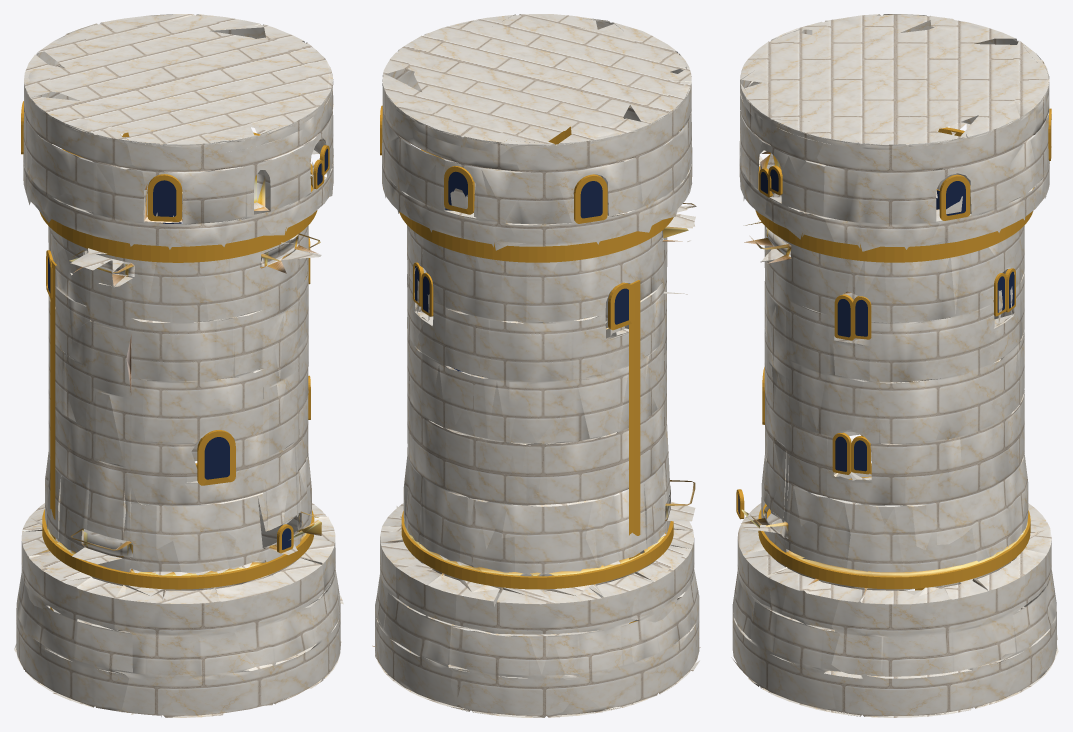
File: HaloPart_GateTowerR_trim.glb
3 views of the same model, side by side, from view 1: azimuth 30°, elevation 25°; view 2: azimuth 150°, elevation 25°; view 3: azimuth 270°, elevation 25° (orthographic).
Visible parts, largest first — view 1: HaloPart_GateTowerR_Stone, HaloPart_GateTowerR_Gold, HaloPart_GateTowerR_Trim, HaloPart_GateTowerR_Glass; view 2: HaloPart_GateTowerR_Stone, HaloPart_GateTowerR_Gold, HaloPart_GateTowerR_Glass, HaloPart_GateTowerR_Trim; view 3: HaloPart_GateTowerR_Stone, HaloPart_GateTowerR_Gold, HaloPart_GateTowerR_Glass, HaloPart_GateTowerR_Trim.
Part boxes in pixels (bbox=[...]): HaloPart_GateTowerR_Stone: bbox=[14, 14, 343, 717]; HaloPart_GateTowerR_Gold: bbox=[21, 101, 329, 610]; HaloPart_GateTowerR_Trim: bbox=[32, 139, 325, 575]; HaloPart_GateTowerR_Glass: bbox=[48, 148, 327, 549]; HaloPart_GateTowerR_Stone: bbox=[375, 14, 699, 717]; HaloPart_GateTowerR_Gold: bbox=[380, 105, 683, 623]; HaloPart_GateTowerR_Glass: bbox=[414, 129, 681, 371]; HaloPart_GateTowerR_Trim: bbox=[372, 203, 700, 647]; HaloPart_GateTowerR_Stone: bbox=[731, 14, 1058, 717]; HaloPart_GateTowerR_Gold: bbox=[736, 108, 1051, 590]; HaloPart_GateTowerR_Glass: bbox=[738, 169, 1014, 514]; HaloPart_GateTowerR_Trim: bbox=[741, 132, 1027, 608].
Size of the model in its own units: 0.5058 by 0.9796 by 0.5104.
Materials: 4 (4 with a texture image).
